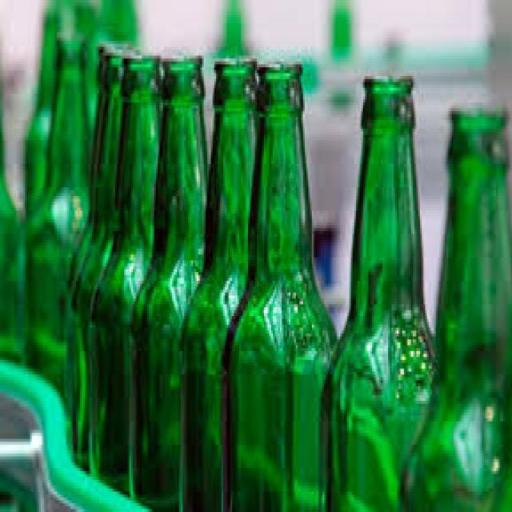glass: (326, 75, 440, 511), (228, 63, 338, 509), (404, 101, 512, 511), (180, 58, 264, 508), (130, 57, 210, 510), (82, 52, 160, 502), (25, 22, 95, 398), (25, 2, 66, 220), (0, 38, 24, 361), (88, 1, 140, 147)
